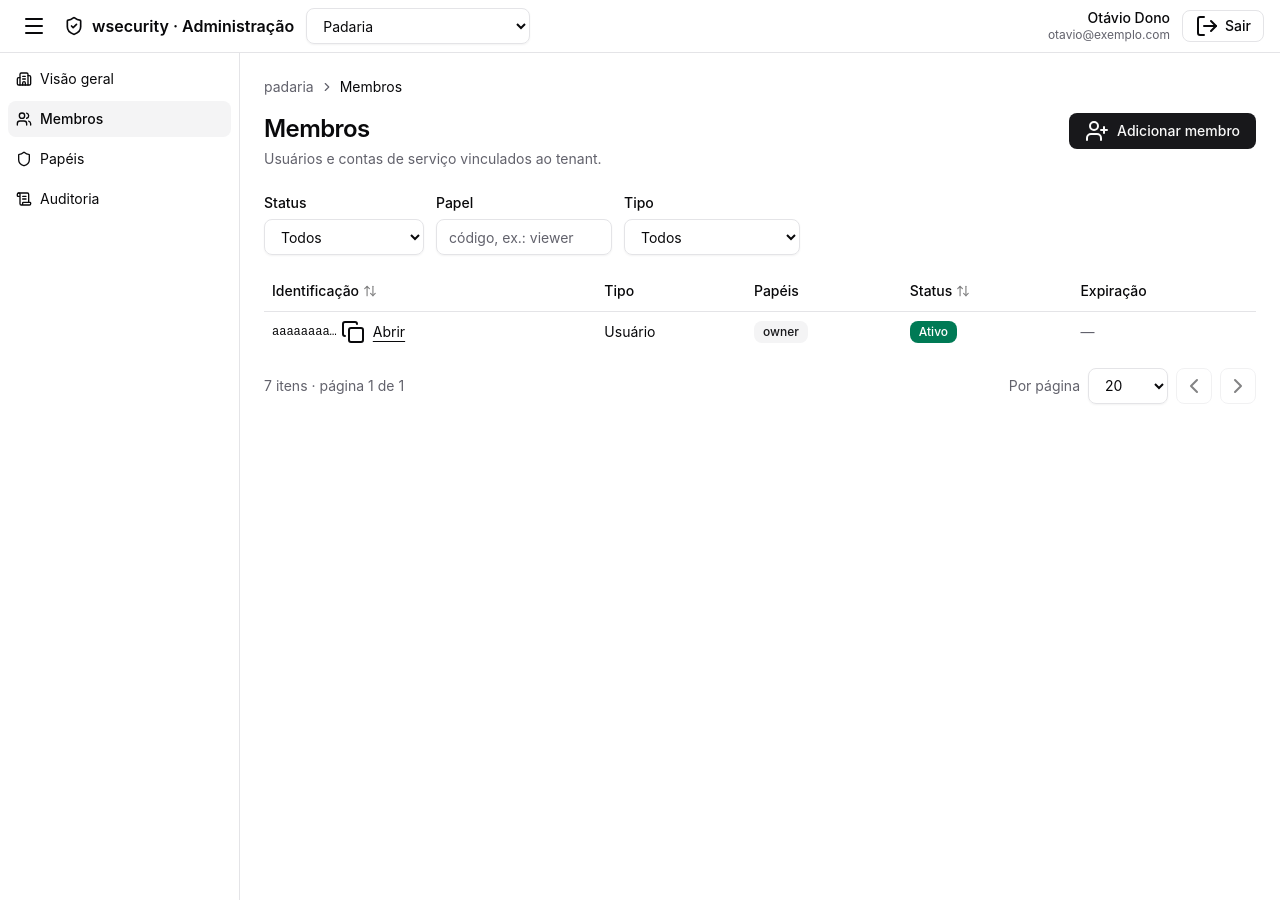
adicionar membro › envia por e-mail com convite, explica o 409 e informa o e-mail ao adicionar
Click the button "Adicionar membro" at coordinates (1163, 131), box [1069,113,1256,149]
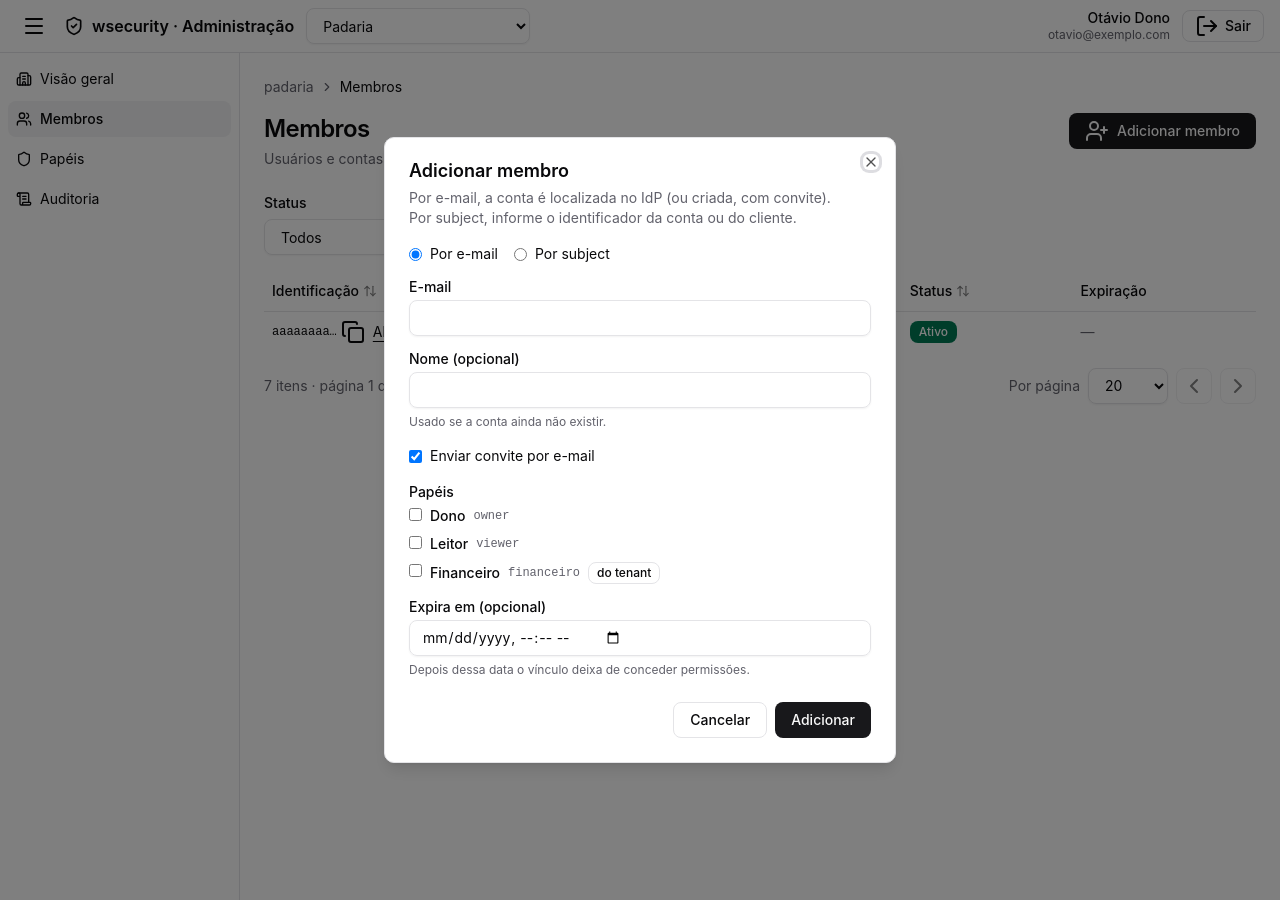
Type "ja@exemplo.com" into the field labelled "E-mail" at coordinates (640, 318), box [409,300,871,336]
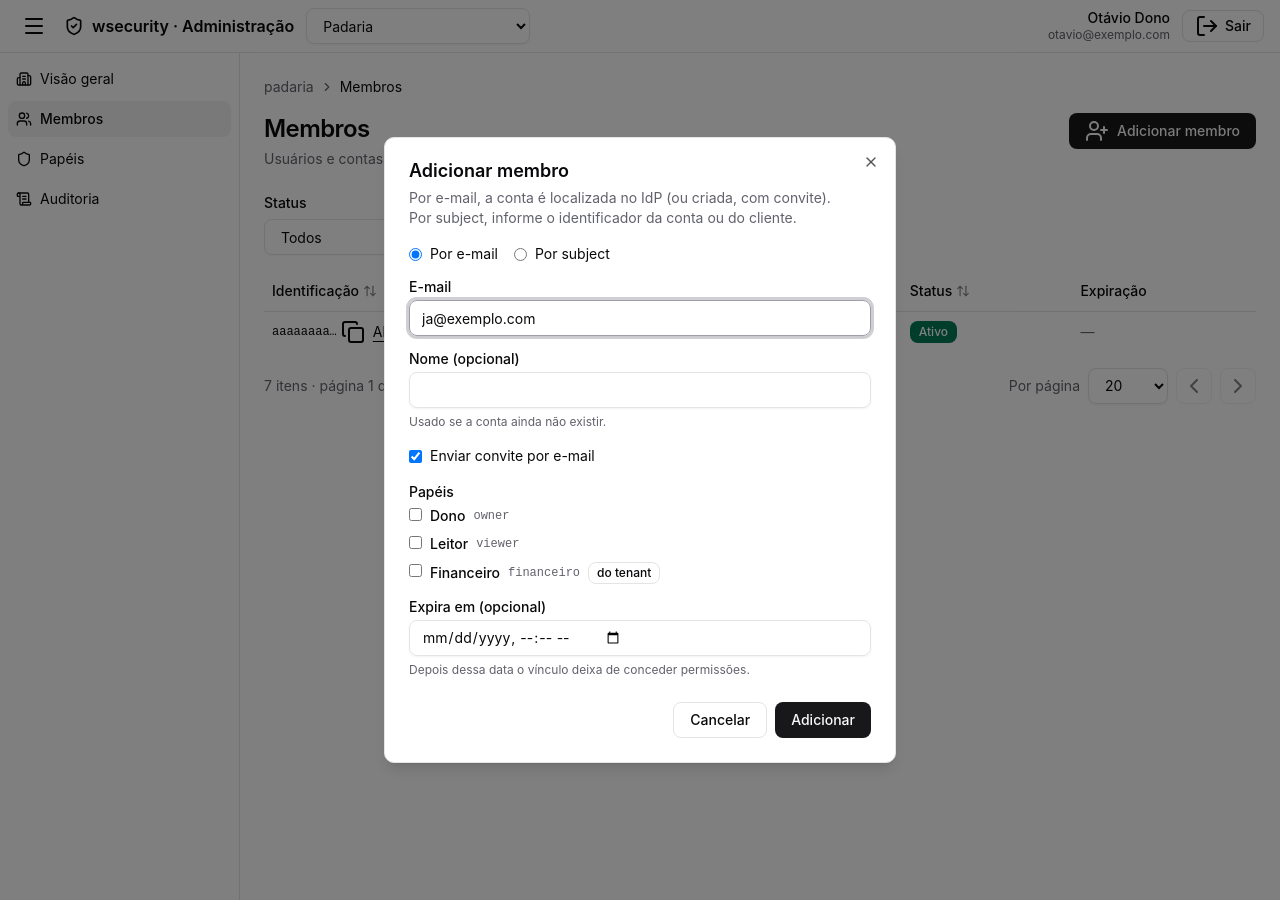
Click the checkbox labelled "Leitor viewer" at coordinates (416, 542), box [409,536,422,549]
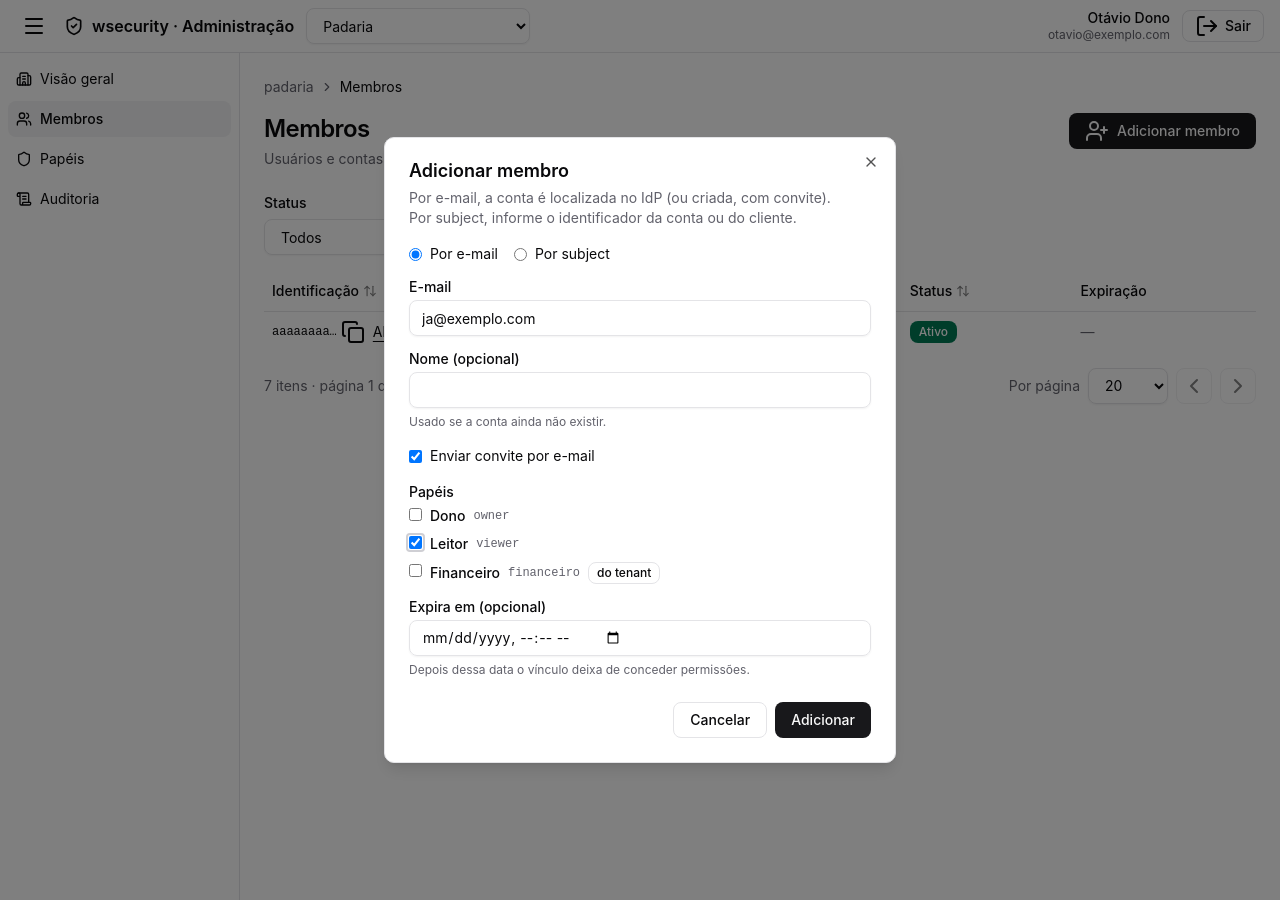
Click the button "Adicionar" at coordinates (823, 720), box [775,702,871,738]
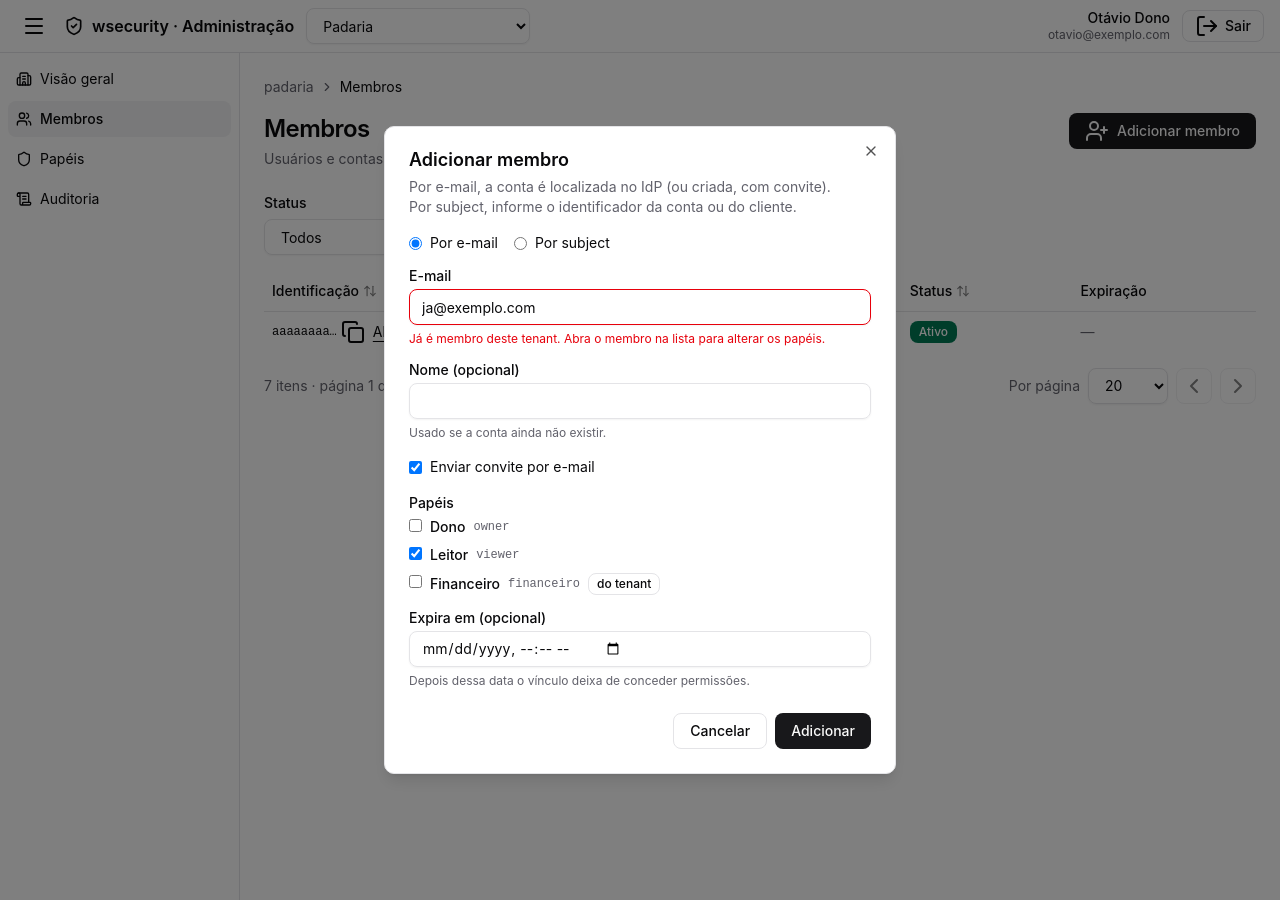
Result: the text "Já é membro deste tenant. Abra o membro na lista para alterar os papéis." is shown at [409,331,871,347]
Replace the text in the field labelled "E-mail" with "bia@exemplo.com" at coordinates (640, 307), box [409,289,871,325]
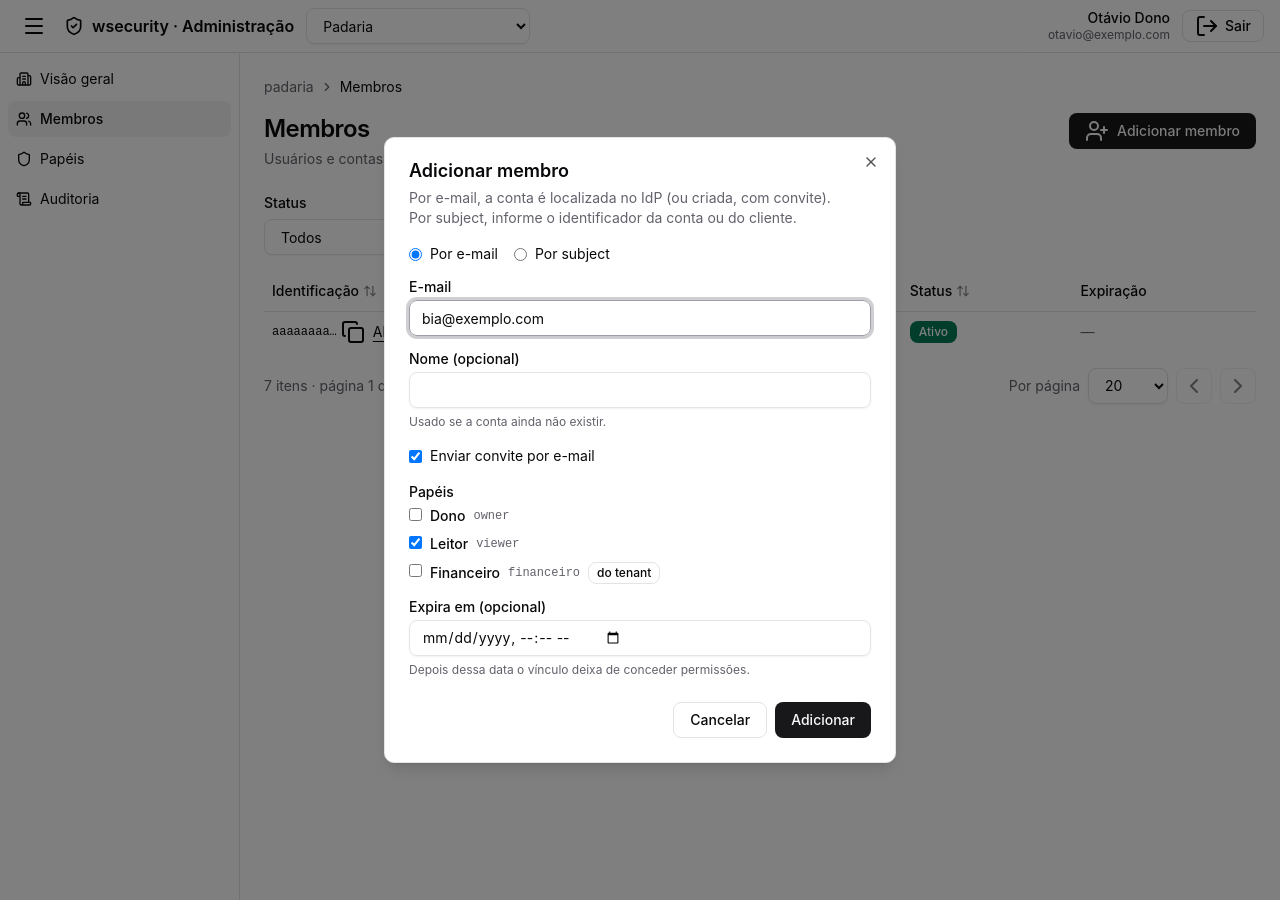
Click the button "Adicionar" at coordinates (823, 720), box [775,702,871,738]
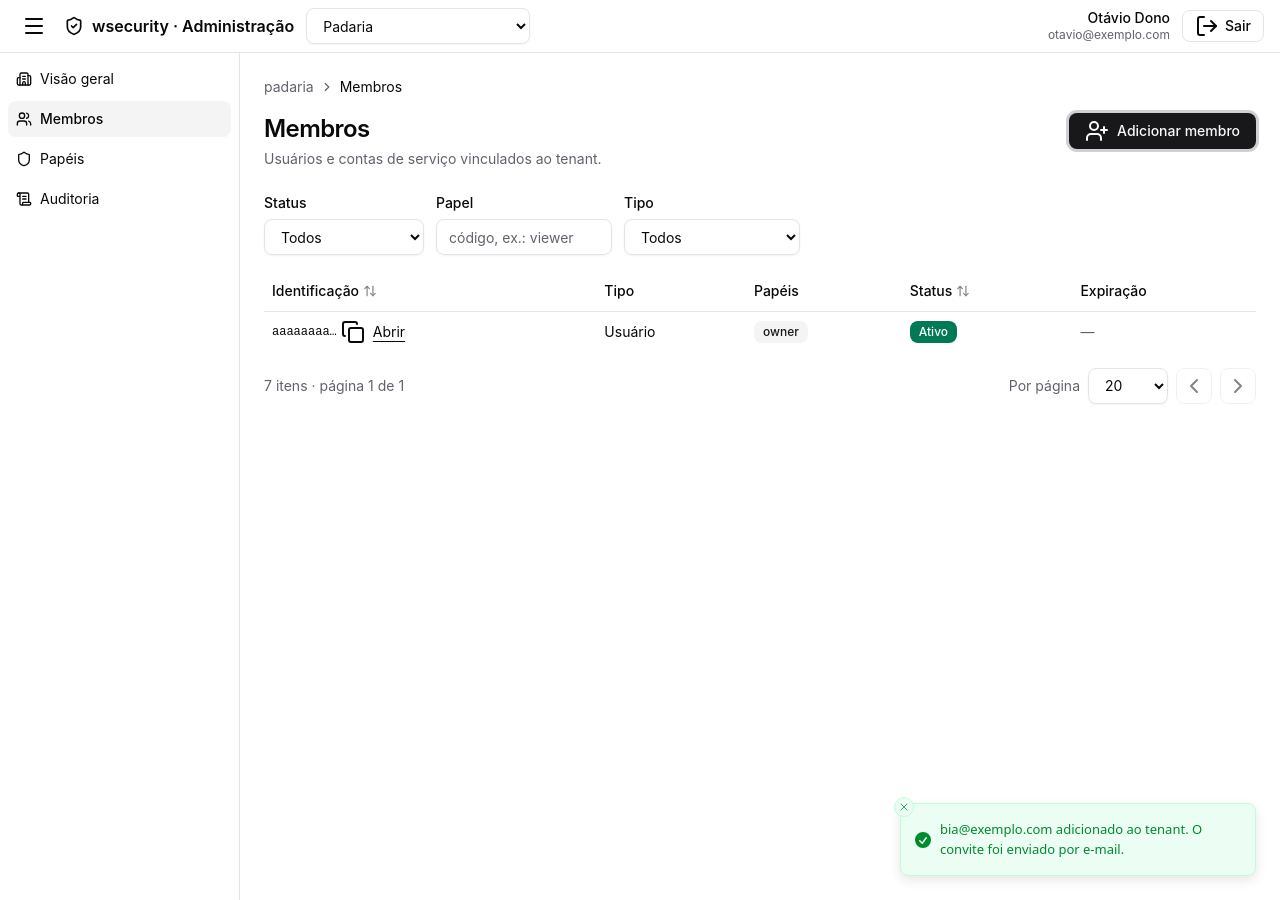
Result: the text "bia@exemplo.com adicionado ao tenant" is shown at [940,820,1202,858]
